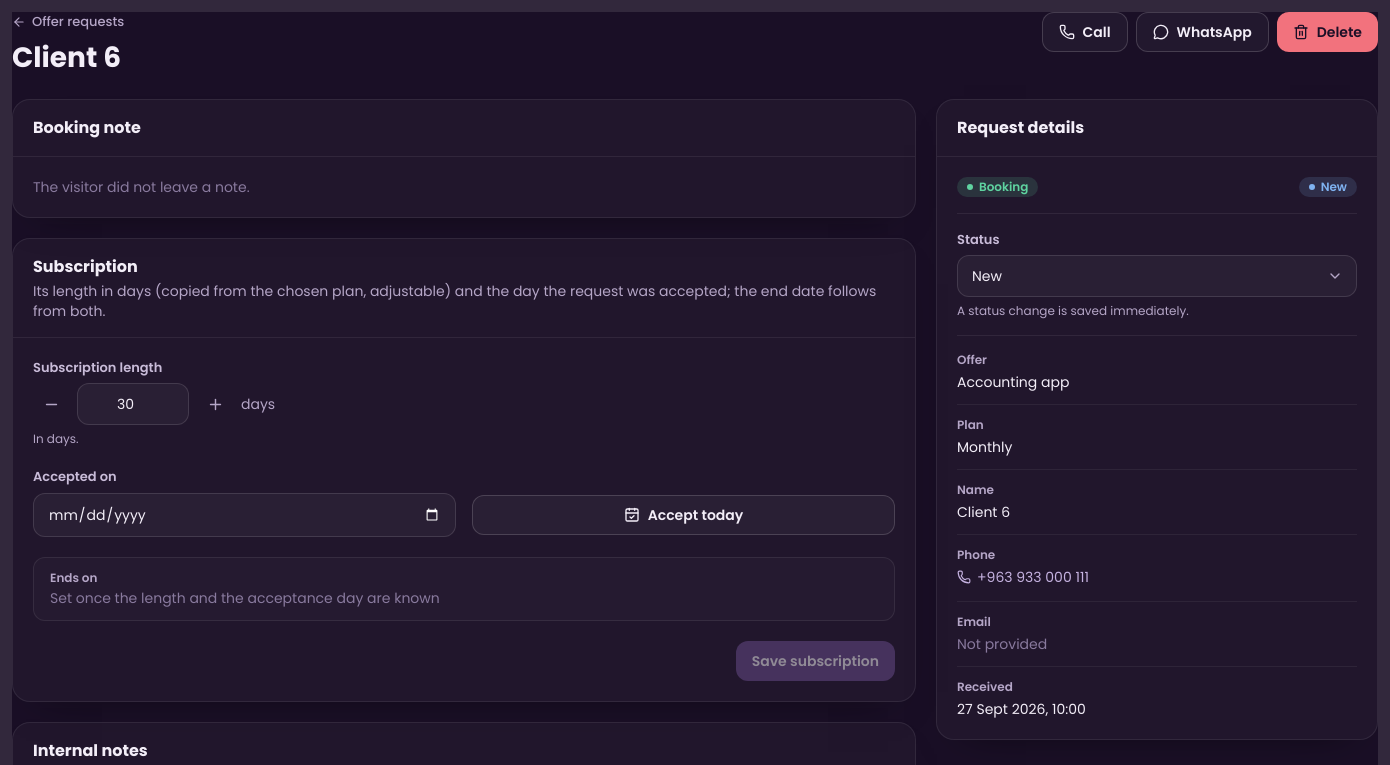
Test: OfferRequestDetail › accepts the request today with the plan length and shows when it ends
This screenshot has width=1390, height=765.
Expected: the number field labelled "Subscription length" holds "30", [77,383,189,425]
Click the button named "One day more": (215, 404) [197,386,233,422]
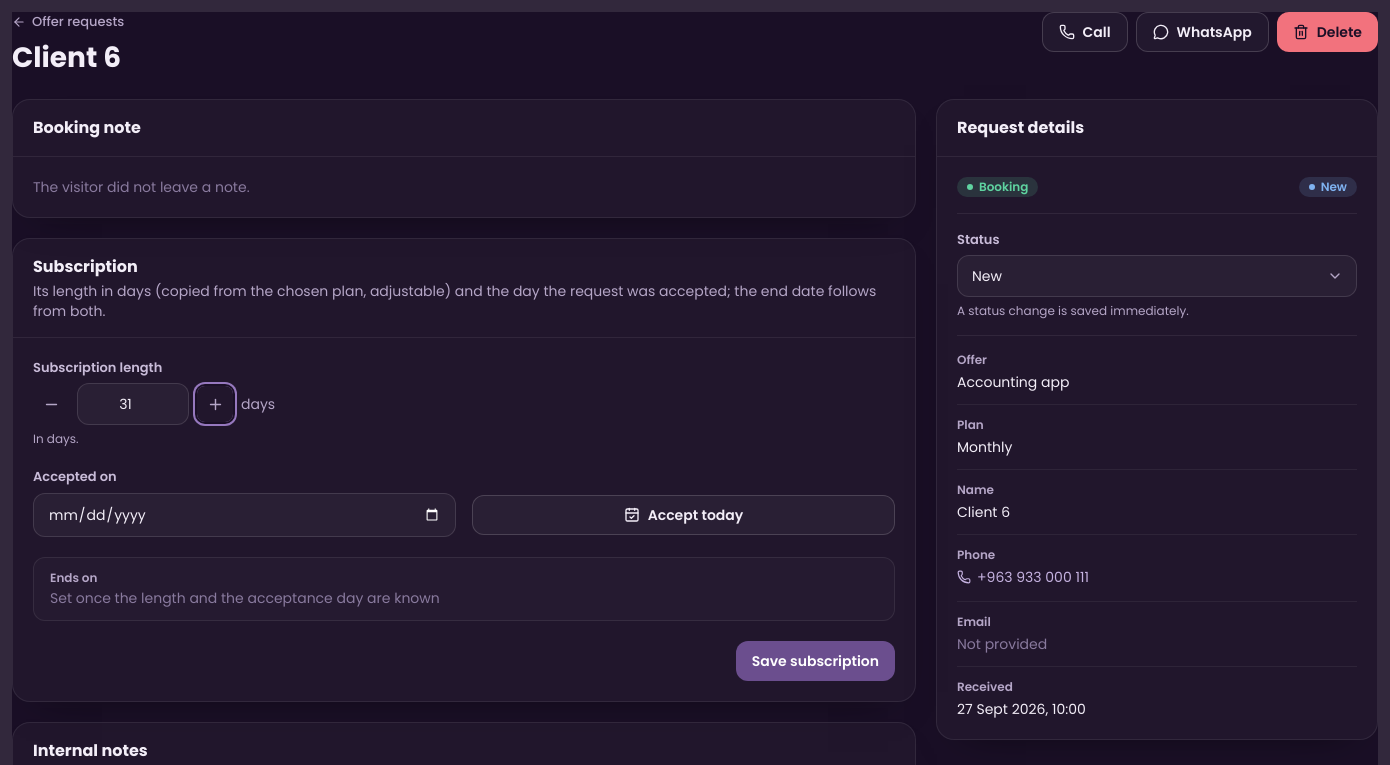
Result: the number field labelled "Subscription length" holds "31" at [77,383,189,425]
Click the button "Accept today": (684, 515) [472,495,895,535]
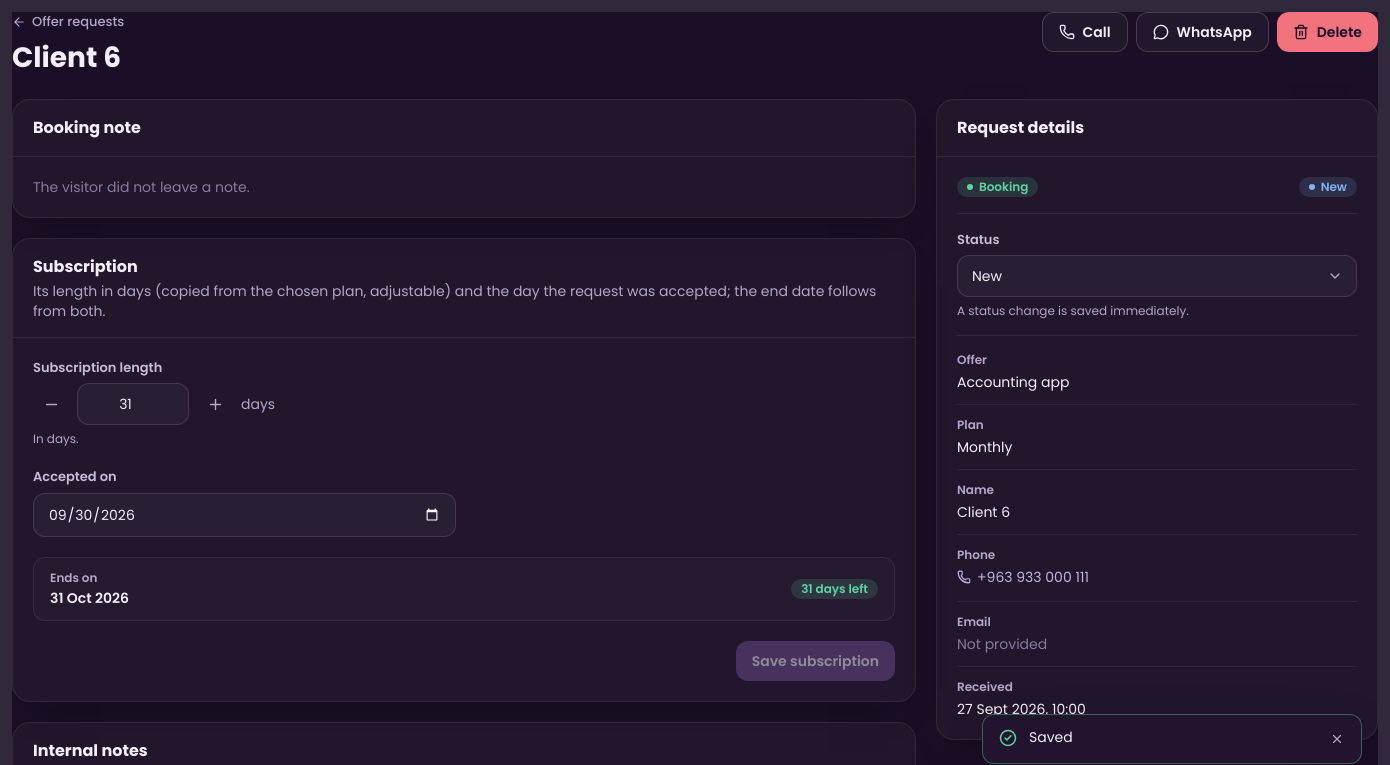
Result: the text "31 days left" is shown at [791,579,878,599]
